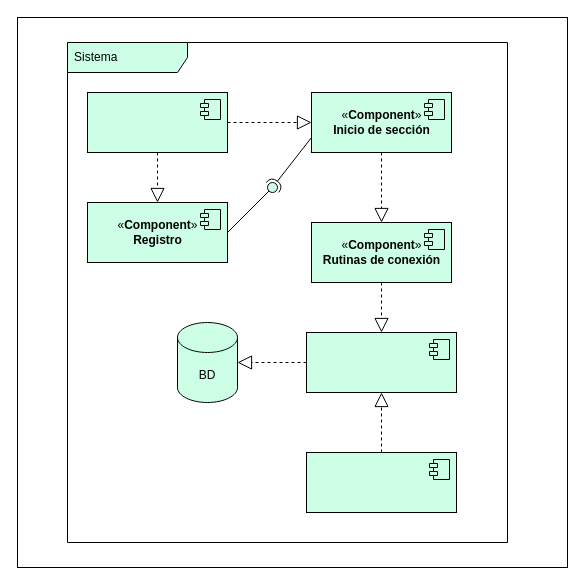
The diagram is 585 pixels wide and 585 high, and some of its shapes have lost their labels. Each missing label, with the centre of its shape:
« Component » Acceso a base de datos: (381,362)
« Component » Control y analísis: (381,482)
« Component » Interfaz de usuario: (157,122)
